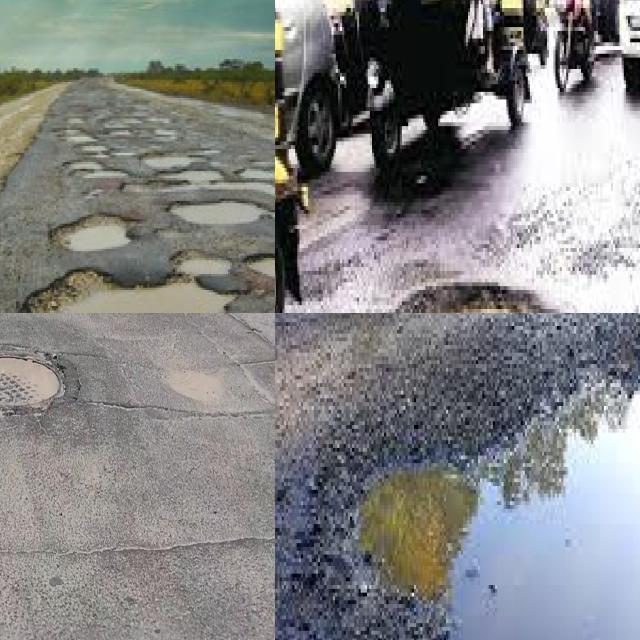Pothole: (356, 345, 640, 640), (65, 157, 275, 224), (27, 272, 232, 313), (0, 348, 68, 410), (50, 215, 128, 253)
